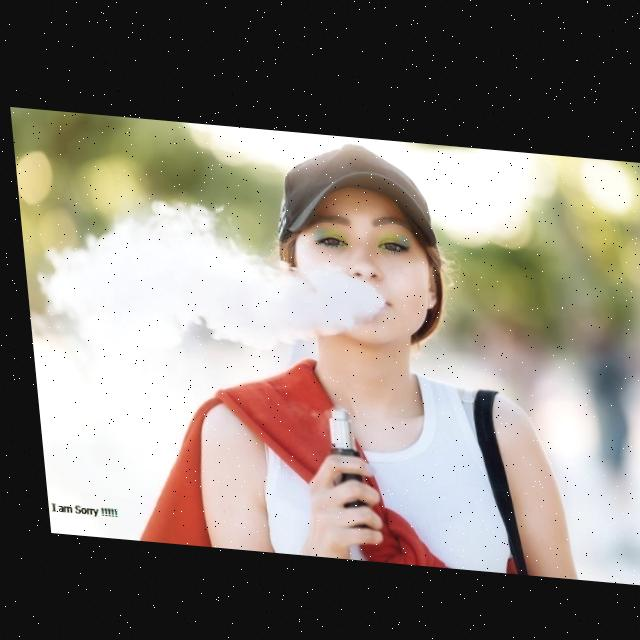vape: (318, 402, 353, 452)
